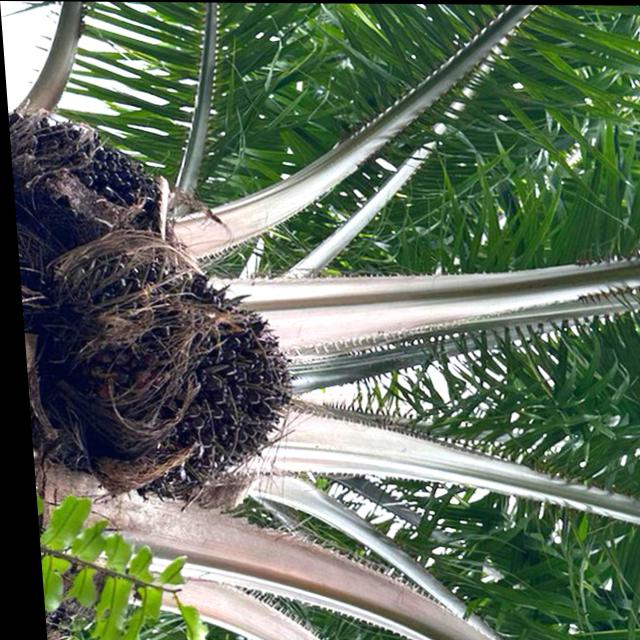almost: (23, 250, 307, 510)
